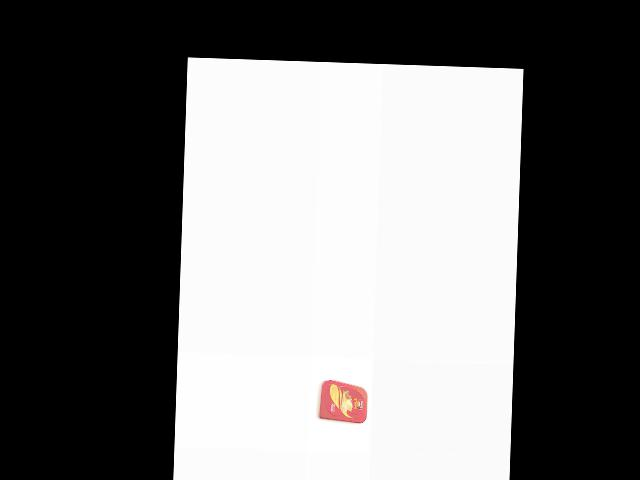cheese: (316, 379, 371, 425)
